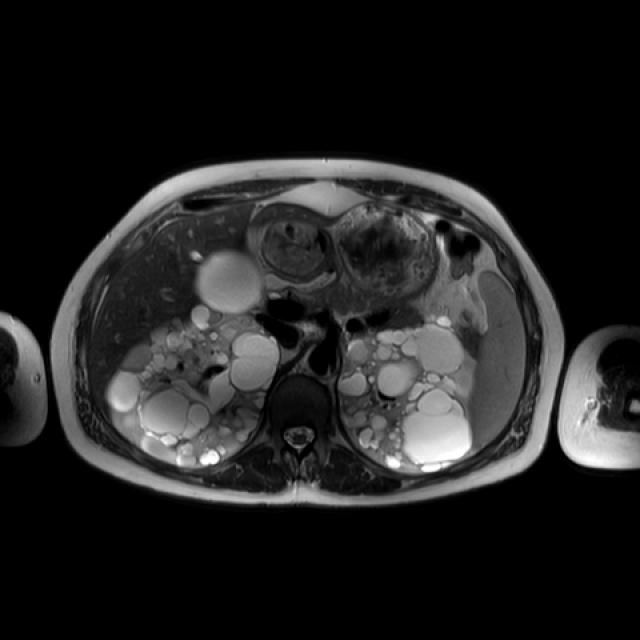sag: (107, 251, 281, 467)
sol: (341, 314, 477, 474)
